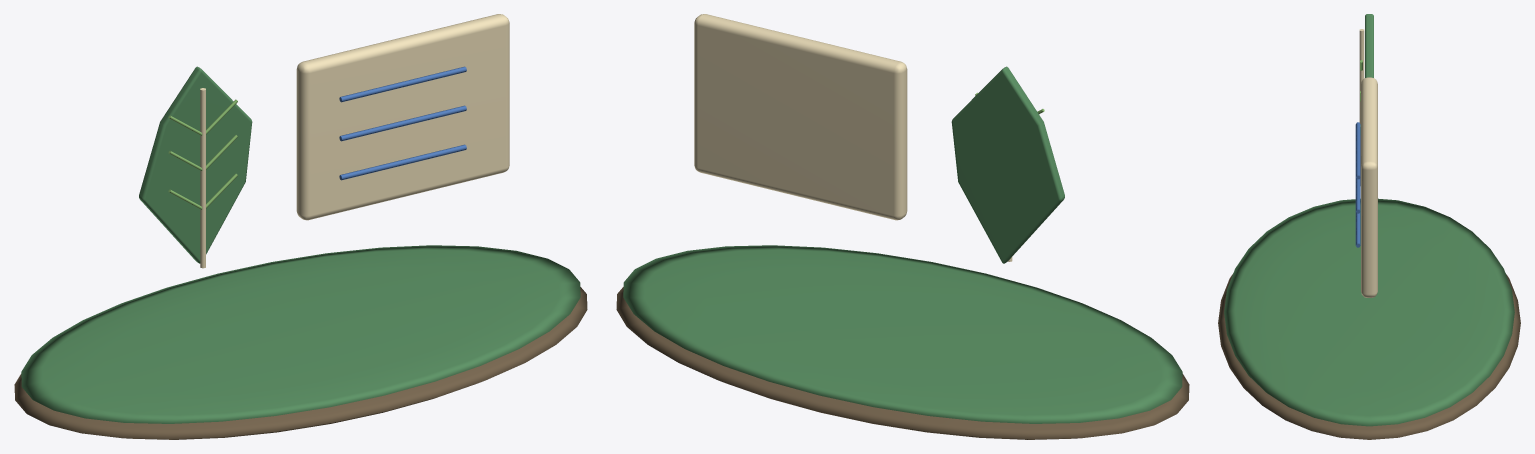
File: single-menu.glb
The picture shows the model from 3 angles, left to right: view 1: azimuth 30°, elevation 25°; view 2: azimuth 150°, elevation 25°; view 3: azimuth 270°, elevation 25°; orthographic projection. The views are drawn at different scales.
Visible parts, largest first — view 1: single-menu_surface_01, single-menu_surface_02, single-menu_surface_00, single-menu_surface_04, single-menu_surface_03; view 2: single-menu_surface_01, single-menu_surface_02, single-menu_surface_00; view 3: single-menu_surface_01, single-menu_surface_00, single-menu_surface_02, single-menu_surface_04.
Part boxes in pixels (<box>): single-menu_surface_01: <box>21,66,580,423</box>; single-menu_surface_02: <box>200,14,509,268</box>; single-menu_surface_00: <box>14,287,587,439</box>; single-menu_surface_04: <box>339,66,466,180</box>; single-menu_surface_03: <box>168,99,237,209</box>; single-menu_surface_01: <box>623,66,1182,423</box>; single-menu_surface_02: <box>694,14,1012,261</box>; single-menu_surface_00: <box>616,287,1189,439</box>; single-menu_surface_01: <box>1224,14,1514,426</box>; single-menu_surface_00: <box>1218,274,1520,439</box>; single-menu_surface_02: <box>1359,29,1377,297</box>; single-menu_surface_04: <box>1355,122,1360,247</box>.
Bounding box in the file's own units: 4.56 × 2.55 × 2.5.
